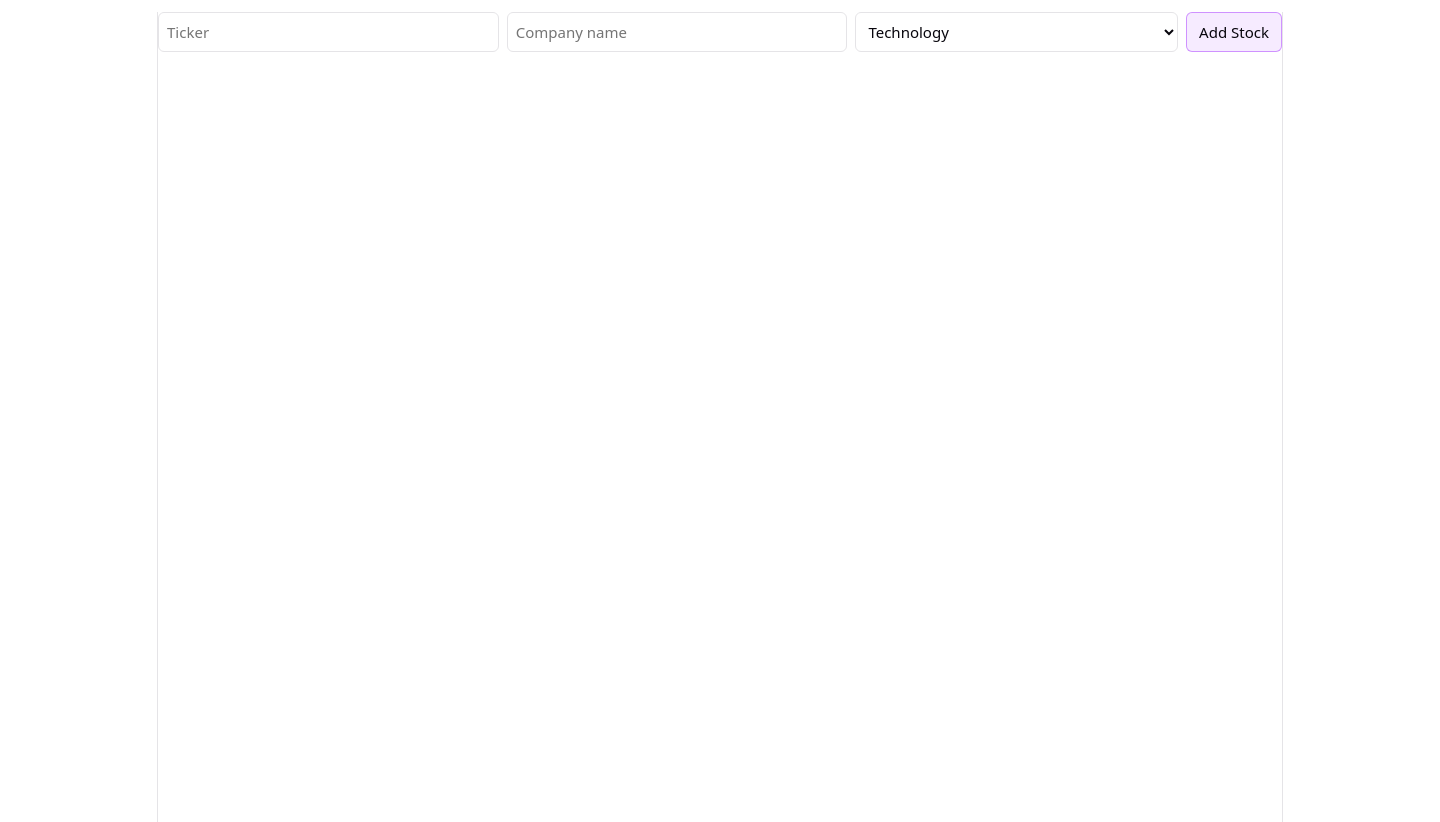
Test: shows an error and does not submit an invalid ticker
The width and height of the screenshot is (1440, 822).
Type "AB$C" into the field labelled "Ticker". click: (328, 32)
box: [158,12,499,52]
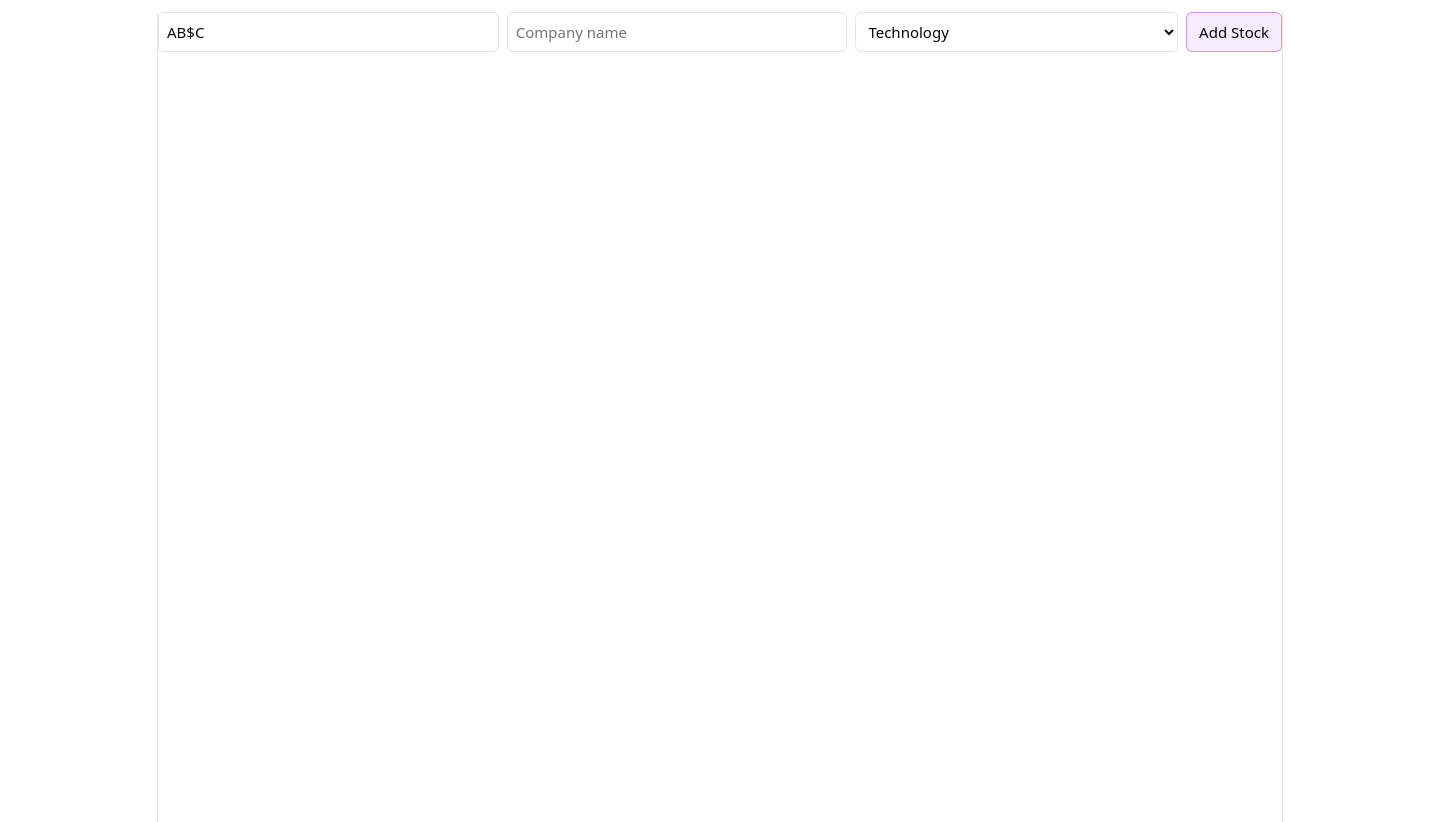
Type "Bad Ticker Inc" into the field labelled "Company name". click: (677, 32)
box: [507,12,847,52]
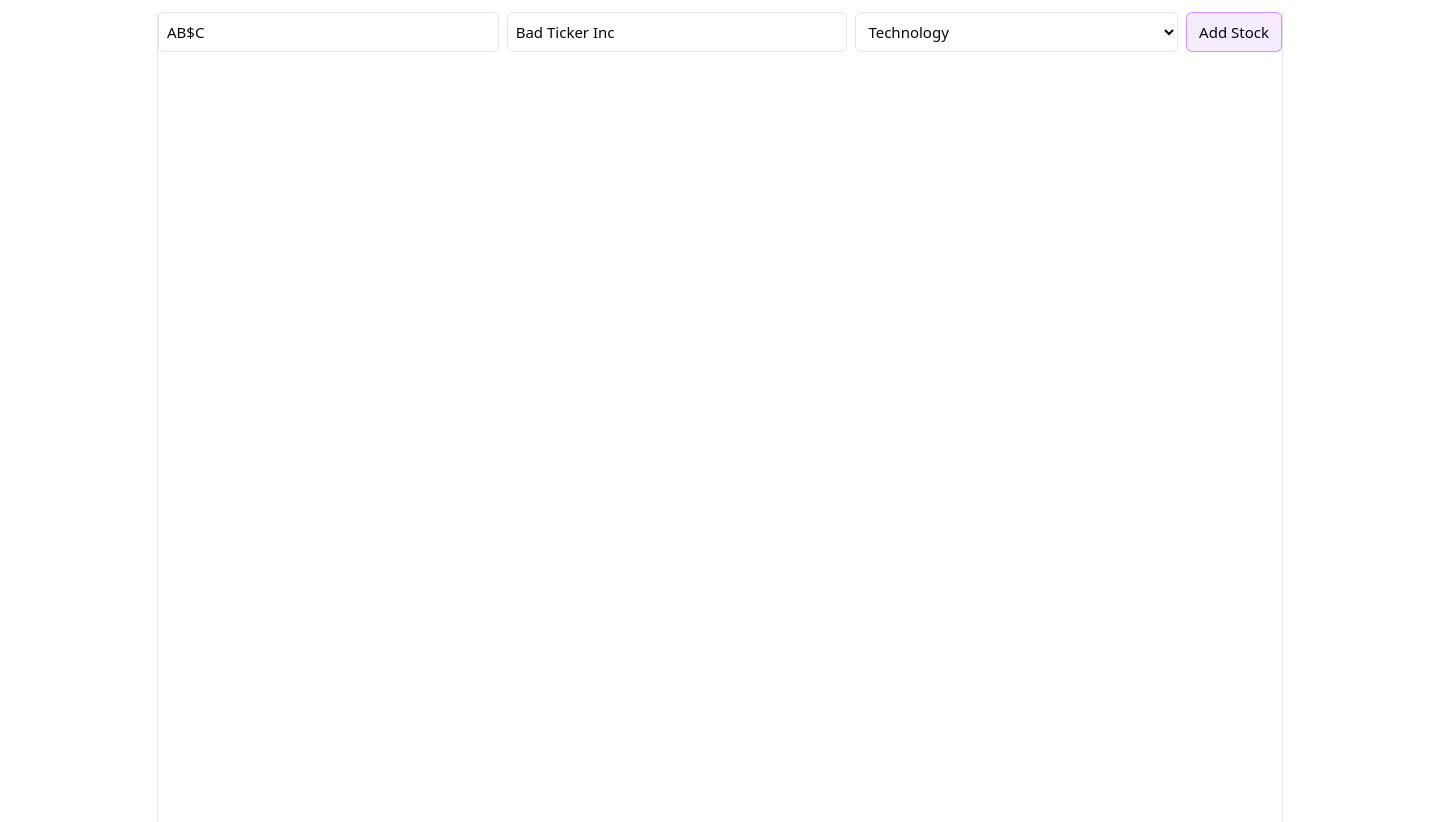
Select "Technology" in the dropdown named "Sector". click: (1017, 32)
box: [855,12,1178,52]
Click the button "Add Stock". click: (1234, 32)
box: [1186,12,1282,52]
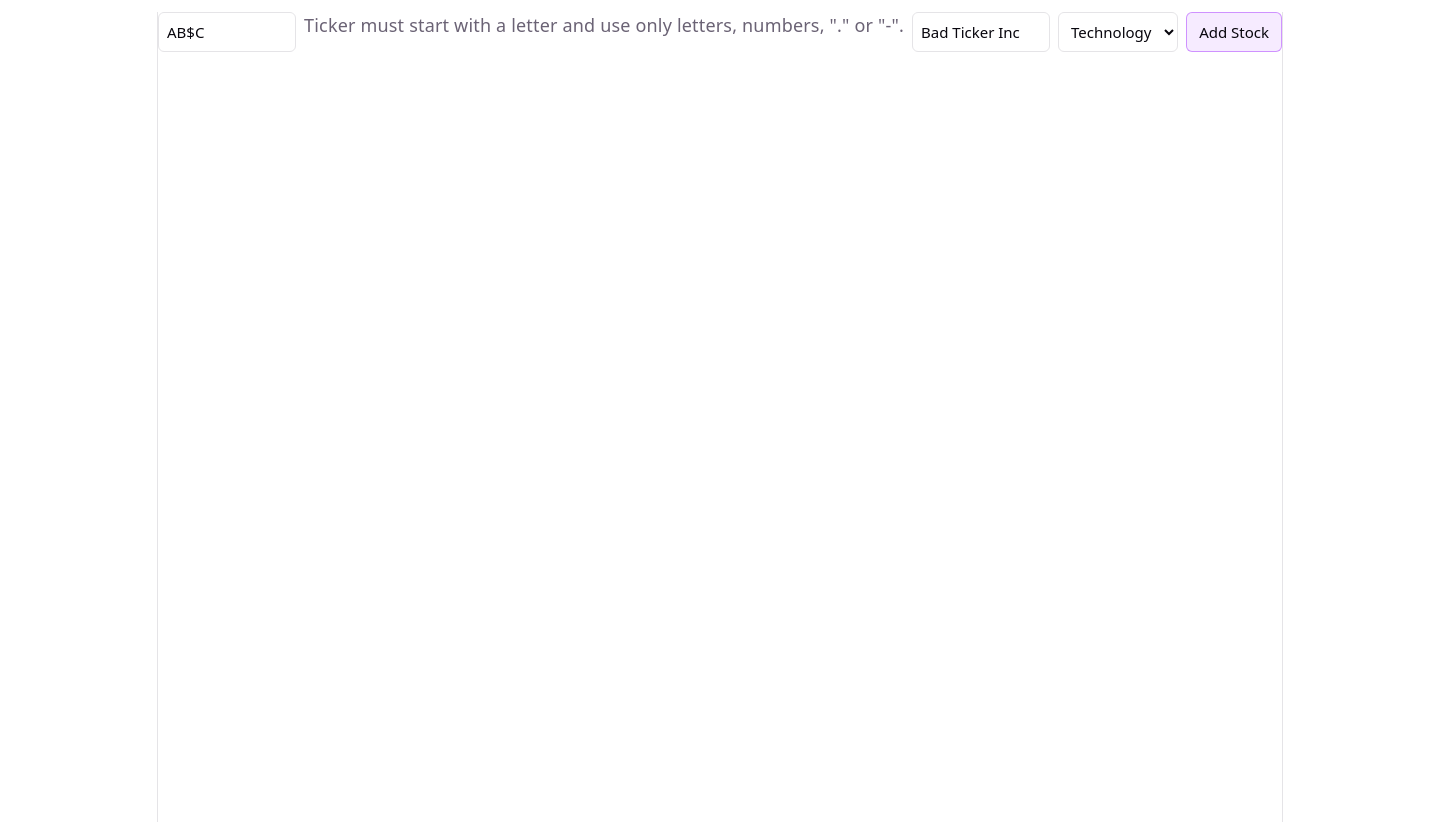
expect the text "Ticker must start with a letter and use only letters, numbers, \".\" or \"-\"." is shown: met, box [304,13,904,37]
